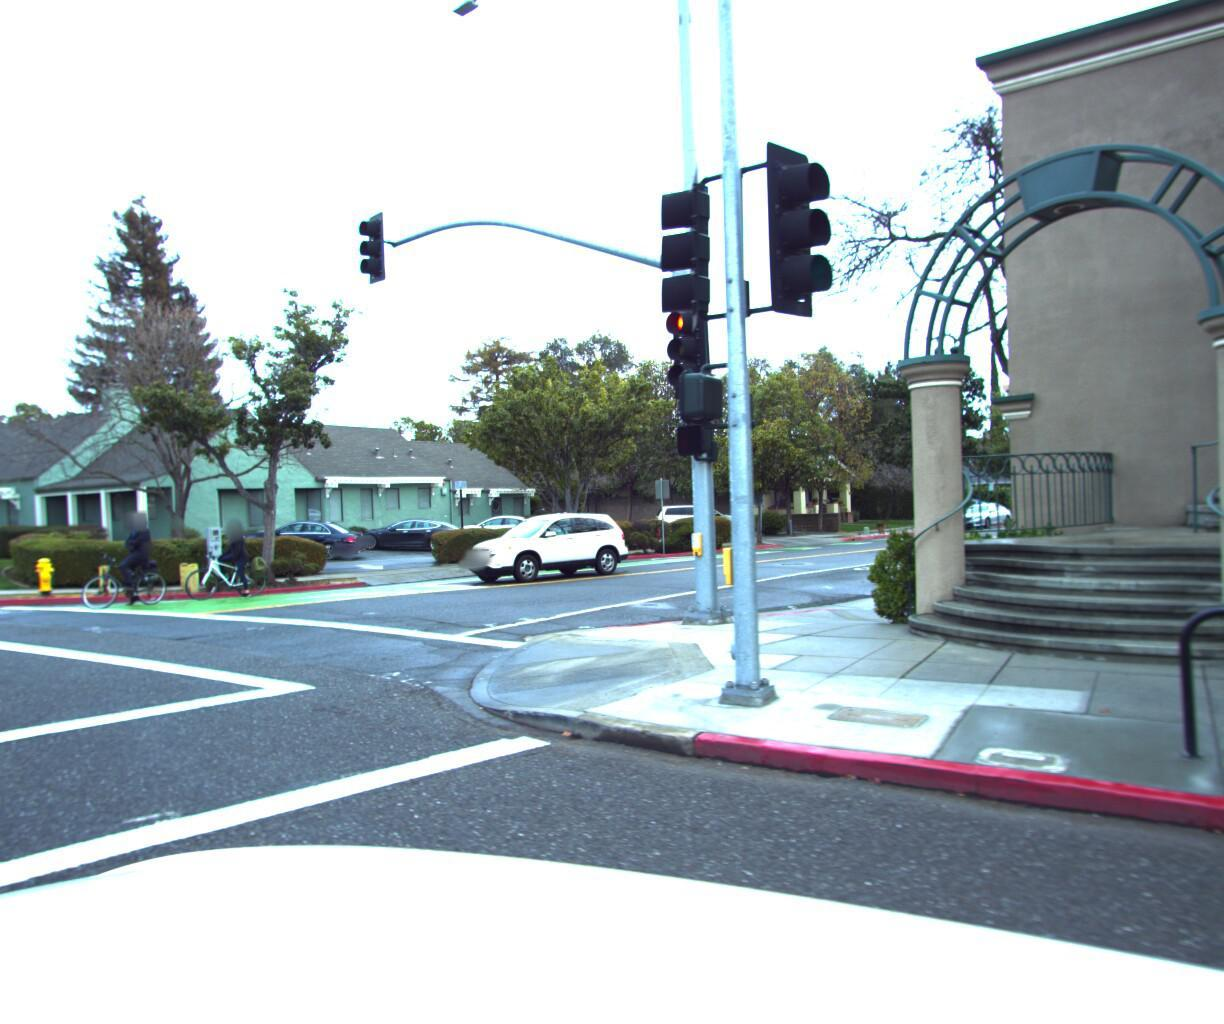bicycle: (51, 500, 194, 608), (168, 502, 293, 600)
car: (443, 498, 634, 581), (652, 493, 740, 531), (944, 493, 1015, 528)
